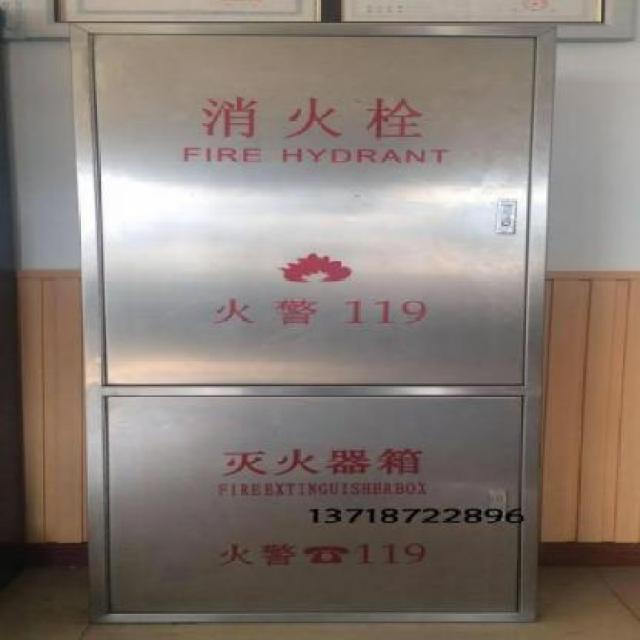firehydrant: (70, 15, 564, 633)
